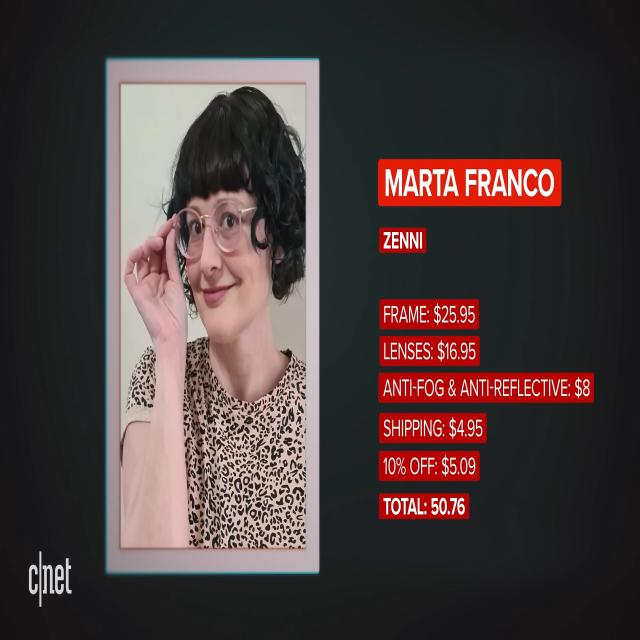dress: (122, 332, 306, 546)
glasses: (170, 196, 249, 264)
